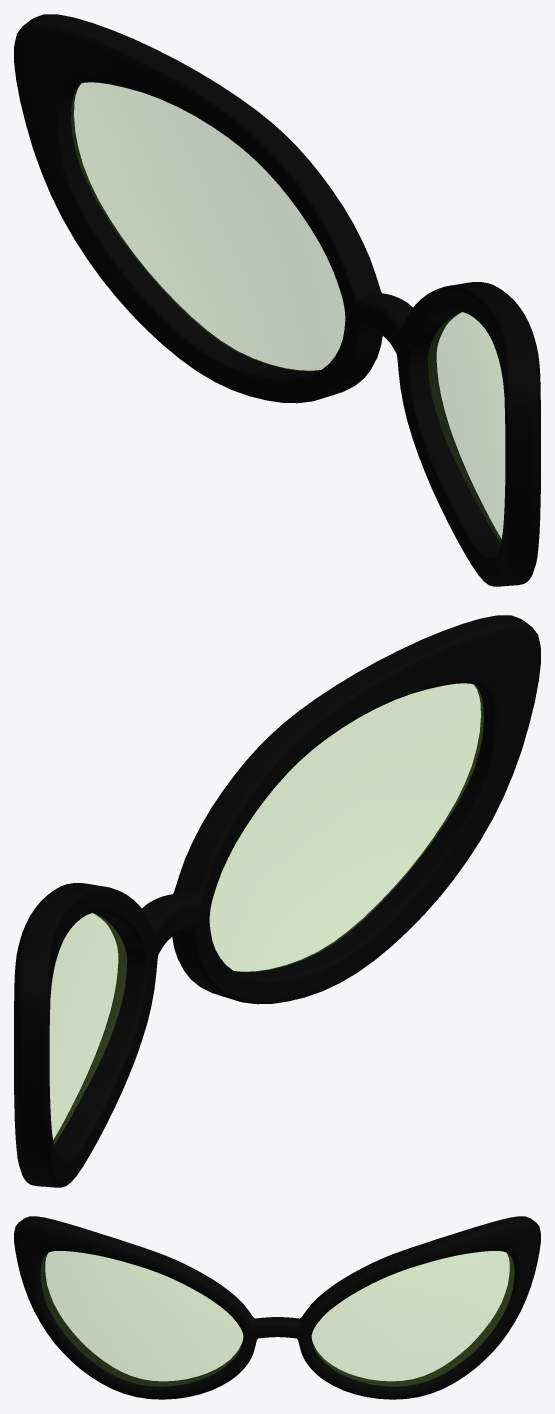
The picture shows the model from 3 angles, top to bottom: view 1: azimuth 30°, elevation 25°; view 2: azimuth 150°, elevation 25°; view 3: azimuth 270°, elevation 25°; orthographic projection. The views are drawn at different scales.
Parts seen in each view (by area): view 1: model_0.001; view 2: model_0.001; view 3: model_0.001.
Boxes of the visible parts, <box> form: model_0.001: <box>14,14,540,586</box>; model_0.001: <box>14,615,540,1187</box>; model_0.001: <box>14,1216,540,1399</box>.
Bounding box in the file's own units: 9.02 × 17.33 × 52.25.
